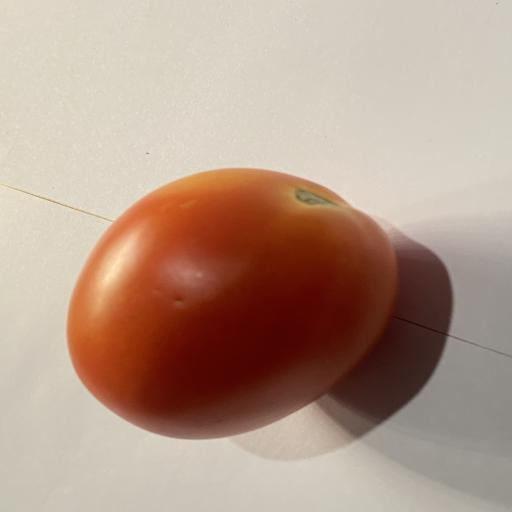ripe: (67, 169, 397, 439)
